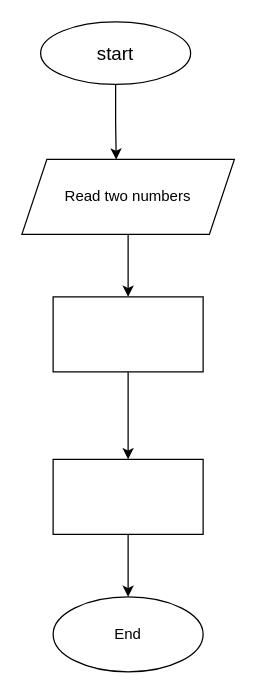
This 256x694 diagram has some shape labels left out. The shapes that lost their labels are listed below. From the top down, each one's box as (x1, y1, x2, y2) in pixels, then its label:
(52, 296, 203, 372): HCF logic for two numbers
(52, 458, 203, 534): Print output
